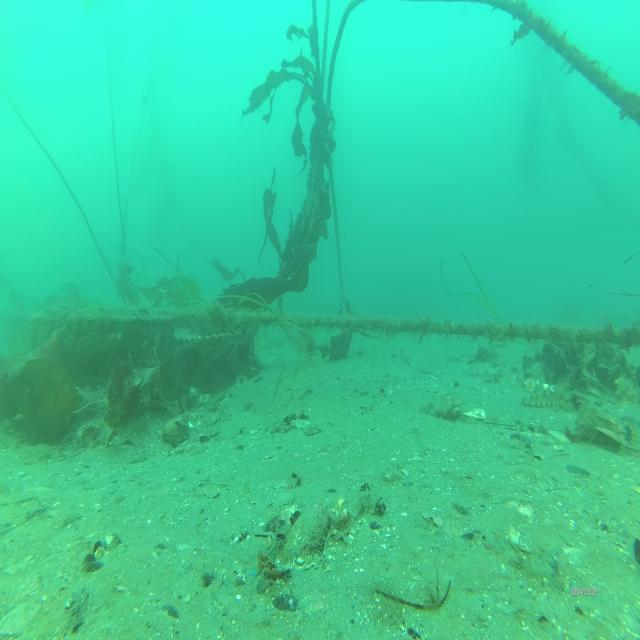holothurian: (521, 386, 566, 411)
